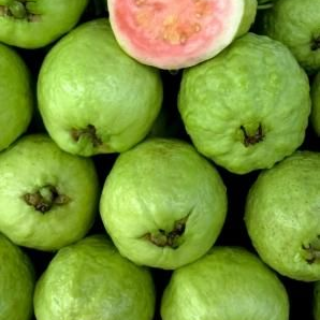oi: (180, 32, 308, 170), (38, 20, 163, 154), (101, 136, 222, 267)
